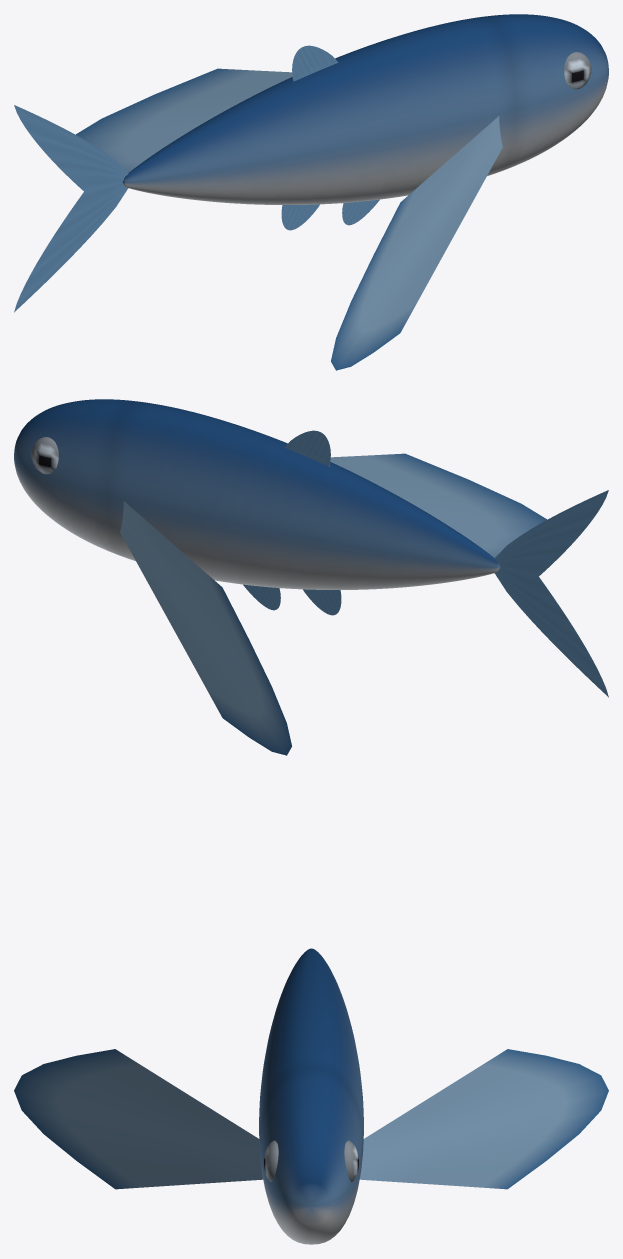
Rendered from ucan.glb.
3 views of the same model, one above another, from view 1: azimuth 30°, elevation 25°; view 2: azimuth 150°, elevation 25°; view 3: azimuth 270°, elevation 25° (orthographic). The views are drawn at different scales.
Visible parts, largest first — view 1: ucan_govde, ucan_gogusL, ucan_gogusR, ucan_kuyruk, ucan_sirt, ucan_gozL, ucan_anal_a, ucan_karin_a; view 2: ucan_govde, ucan_gogusR, ucan_gogusL, ucan_kuyruk, ucan_sirt, ucan_gozR, ucan_anal_a, ucan_karin_a; view 3: ucan_govde, ucan_gogusL, ucan_gogusR.
Part boxes in pixels (x1=…): ucan_govde: x1=122, y1=14, x2=608, y2=204; ucan_gogusL: x1=331, y1=116, x2=502, y2=370; ucan_gogusR: x1=75, y1=68, x2=292, y2=173; ucan_kuyruk: x1=14, y1=105, x2=128, y2=312; ucan_sirt: x1=292, y1=45, x2=338, y2=81; ucan_gozL: x1=564, y1=52, x2=591, y2=89; ucan_anal_a: x1=281, y1=204, x2=319, y2=230; ucan_karin_a: x1=342, y1=199, x2=379, y2=225; ucan_govde: x1=14, y1=399, x2=500, y2=589; ucan_gogusR: x1=120, y1=501, x2=291, y2=755; ucan_gogusL: x1=330, y1=453, x2=547, y2=558; ucan_kuyruk: x1=494, y1=490, x2=608, y2=697; ucan_sirt: x1=284, y1=430, x2=330, y2=466; ucan_gozR: x1=31, y1=437, x2=58, y2=474; ucan_anal_a: x1=303, y1=589, x2=341, y2=615; ucan_karin_a: x1=243, y1=584, x2=280, y2=610; ucan_govde: x1=259, y1=948, x2=363, y2=1244; ucan_gogusL: x1=14, y1=1049, x2=263, y2=1189; ucan_gogusR: x1=359, y1=1049, x2=608, y2=1189.
Bounding box in the file's own units: 1.01 × 0.3819 × 0.822.
